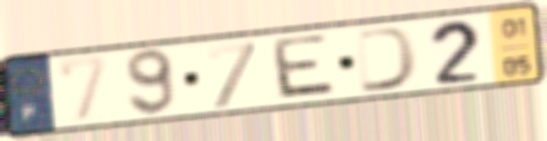2: (426, 14, 491, 91)
7: (53, 52, 116, 126), (205, 40, 258, 110)
9: (122, 46, 179, 120)
D: (353, 24, 423, 96)
E: (271, 31, 340, 102)
